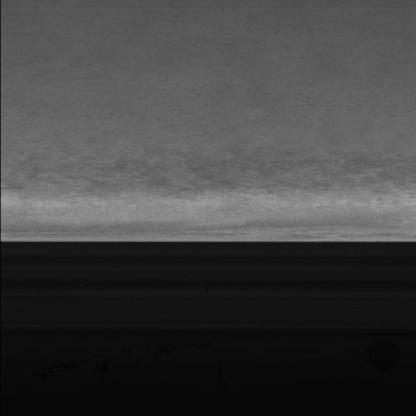silk_spot: (82, 148, 378, 193)
